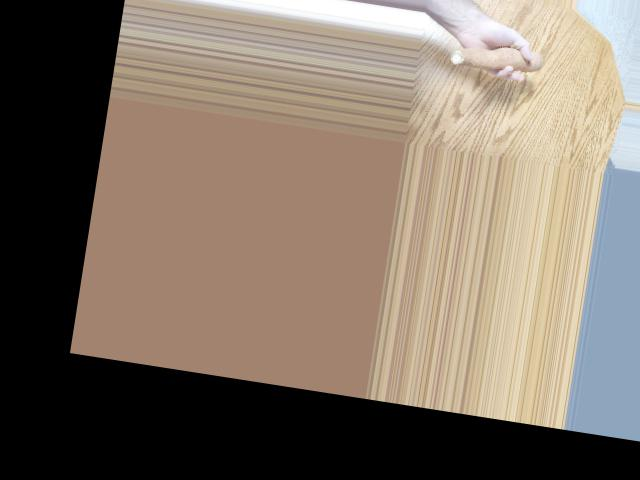sweet_potato: (445, 43, 549, 82)
